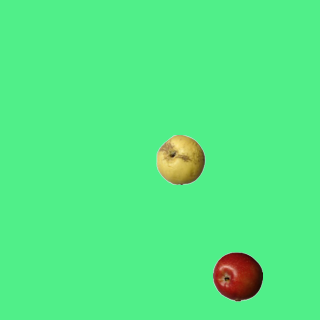Apple Braeburn: (212, 251, 262, 301)
Apple Golden 1: (155, 134, 205, 184)
